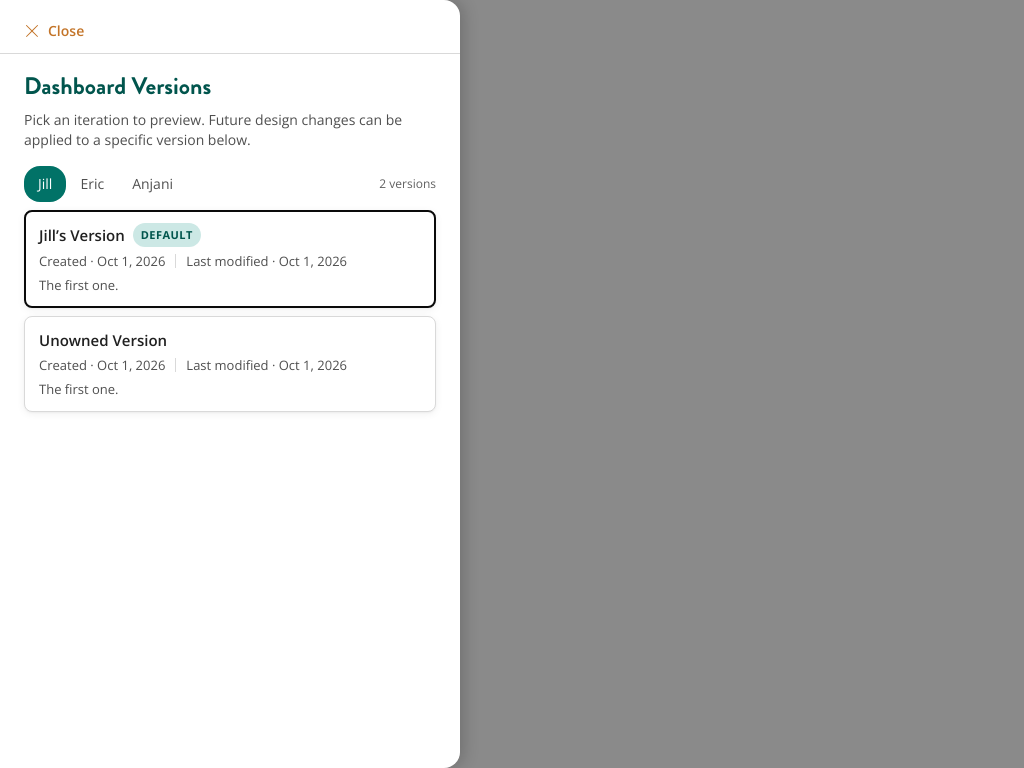
it: the designer tabs › switch to Eric’s and show only his
Click the tab "Eric": (92, 184) [66,166,118,202]
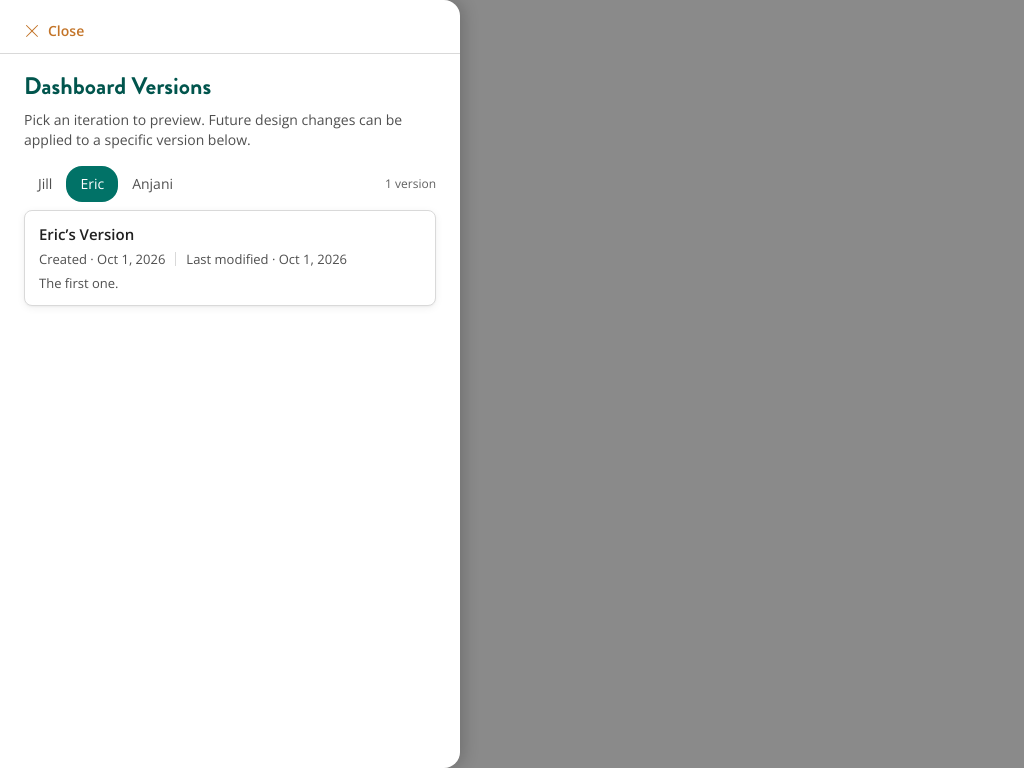
Check: the text "Eric’s Version" is shown, box [39,223,134,245]
Check: the button "Jill’s Version" is gone
Check: the button "Unowned Version" is gone
